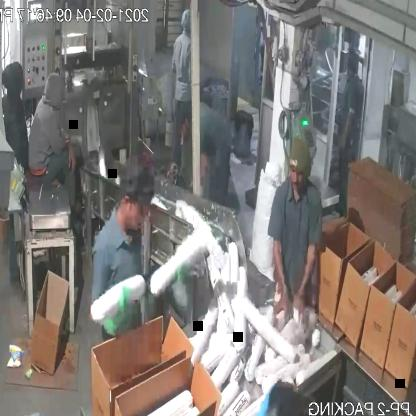no_glove: (292, 231, 322, 326), (268, 224, 291, 327), (63, 132, 76, 180)
